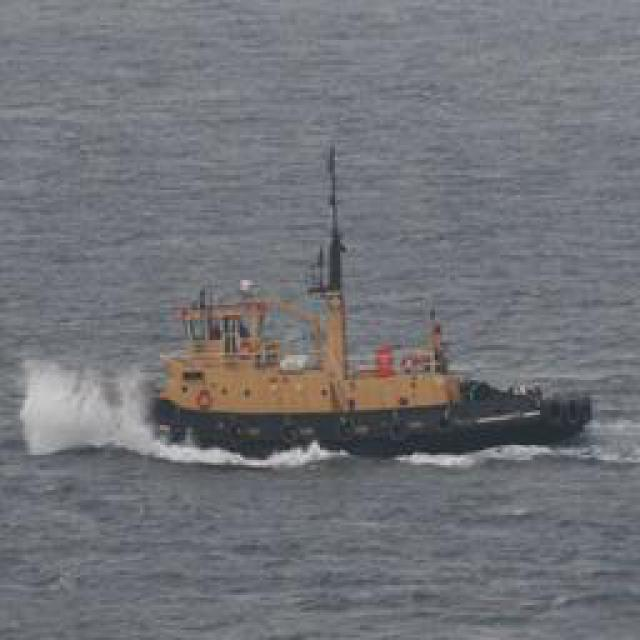Ship: (153, 141, 601, 461)
